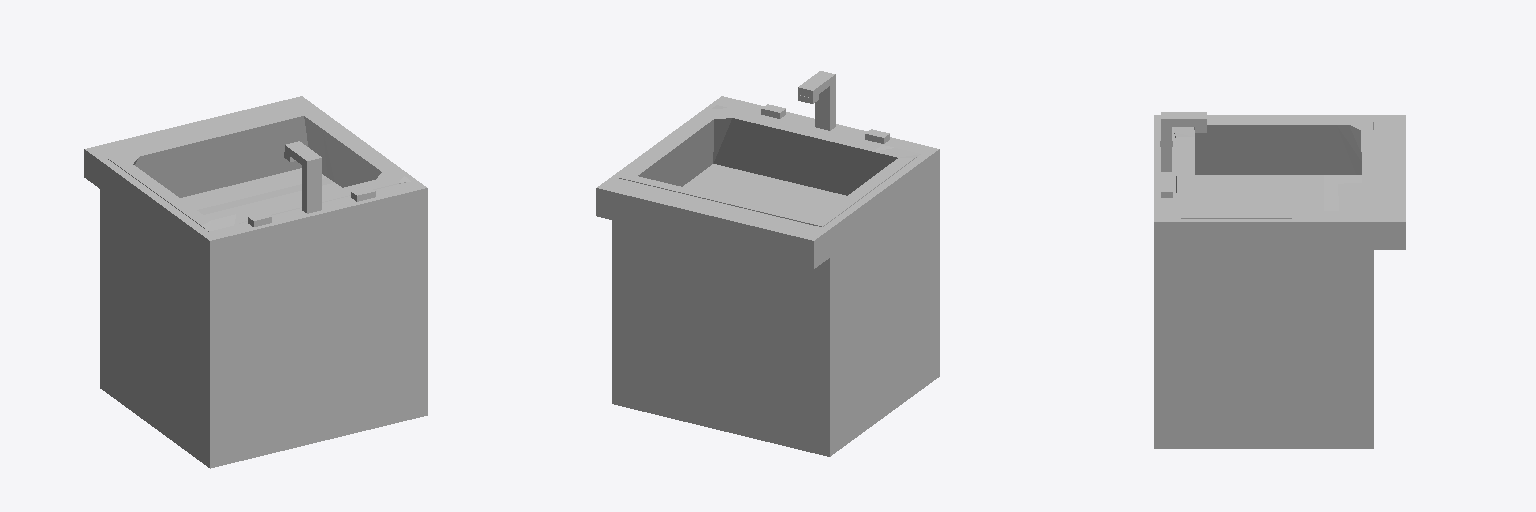
The model's file is FM_counter_sink.obj.
3 renders of one model, left to right at view 1: azimuth 30°, elevation 25°; view 2: azimuth 150°, elevation 25°; view 3: azimuth 270°, elevation 25°, orthographic.
Parts seen in each view (by area): view 1: nodebox30, Cube.002, nodebox31, Cube_Cube.001; view 2: nodebox30, Cube.002, nodebox31, Cube_Cube.001; view 3: nodebox30, Cube.002, nodebox31, Cube_Cube.001.
Part boxes in pixels (x1,y1,x2,y2): nodebox30: (100, 189, 427, 468); Cube.002: (108, 108, 410, 231); nodebox31: (84, 96, 427, 268); Cube_Cube.001: (284, 141, 321, 213); nodebox30: (612, 178, 939, 456); Cube.002: (619, 105, 920, 226); nodebox31: (596, 96, 939, 268); Cube_Cube.001: (798, 71, 835, 130); nodebox30: (1154, 250, 1373, 448); Cube.002: (1174, 118, 1374, 218); nodebox31: (1154, 115, 1405, 249); Cube_Cube.001: (1161, 112, 1206, 171).
Bounding box in the file's own units: 1 × 1.23 × 1.